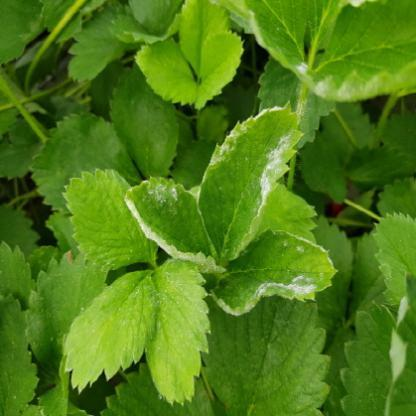Strawberry_Powdery_Mildew_Leaf: (196, 99, 308, 265), (294, 0, 415, 102), (63, 269, 158, 396), (210, 229, 340, 318), (124, 175, 224, 275), (146, 258, 211, 406), (237, 0, 313, 73)
